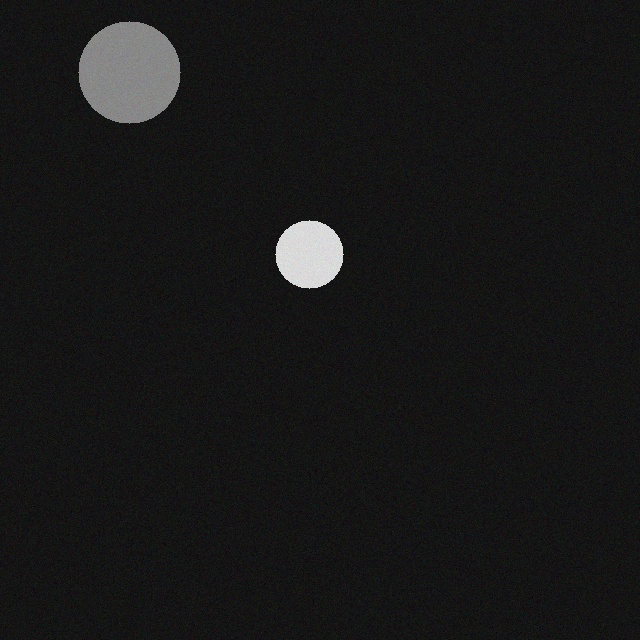circle: (84, 31, 186, 133), (281, 230, 349, 298)
